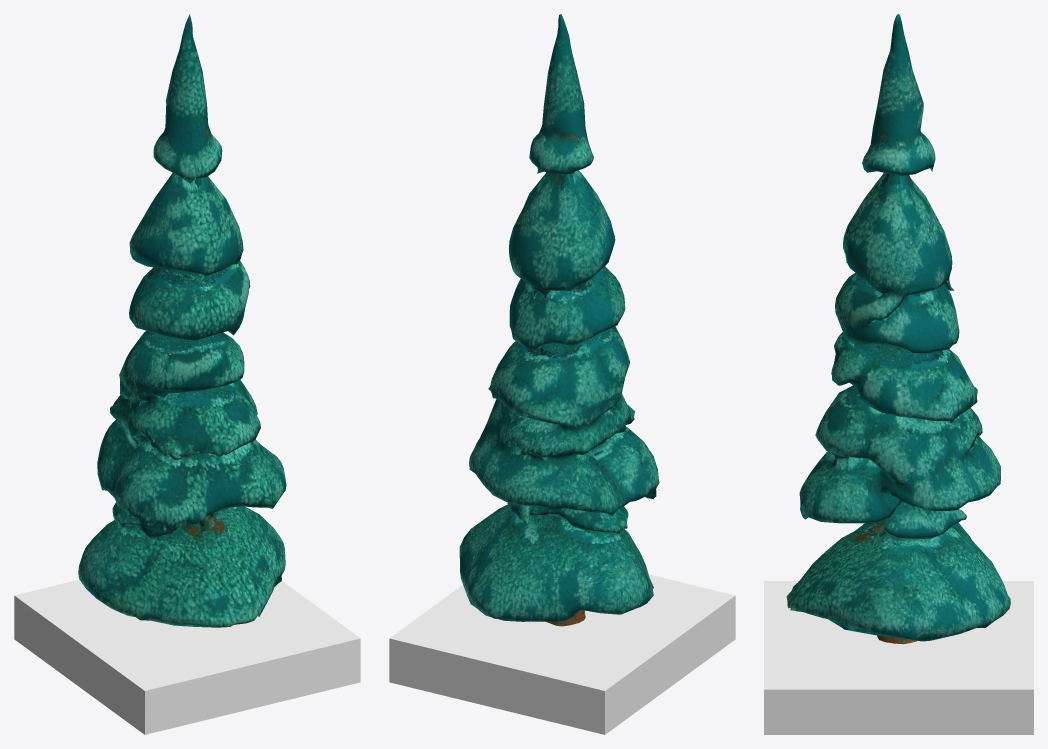
Rendered from conifer.glb.
3 views of the same model, side by side, from view 1: azimuth 30°, elevation 25°; view 2: azimuth 150°, elevation 25°; view 3: azimuth 270°, elevation 25° (orthographic). The views are drawn at different scales.
Parts seen in each view (by area): view 1: conifer; view 2: conifer; view 3: conifer.
Boxes of the visible parts, x1,y1,x2,y2 form: conifer: (14,14,360,734); conifer: (389,14,735,734); conifer: (764,14,1033,734).
Bounding box in the file's own units: 0.2762 × 0.7905 × 0.2895.
2 materials, 1 textured.
